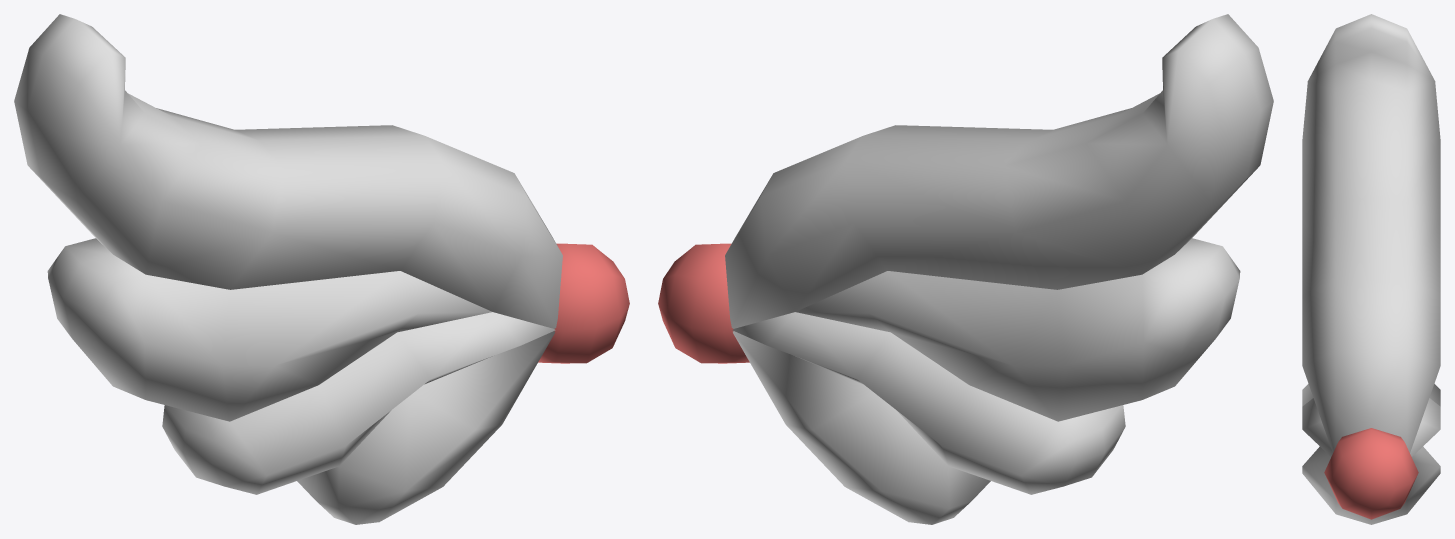
File: Wing.fbx
3 renders of one model, left to right at view 1: azimuth 30°, elevation 25°; view 2: azimuth 150°, elevation 25°; view 3: azimuth 270°, elevation 25°, orthographic. The views are drawn at different scales.
Visible parts, largest first — view 1: Wing; view 2: Wing; view 3: Wing.
Boxes of the visible parts, bbox=[...] form: Wing: bbox=[14, 14, 629, 524]; Wing: bbox=[658, 14, 1273, 524]; Wing: bbox=[1302, 14, 1440, 524].
Bounding box in the file's own units: 57.51 × 52.31 × 16.21.
